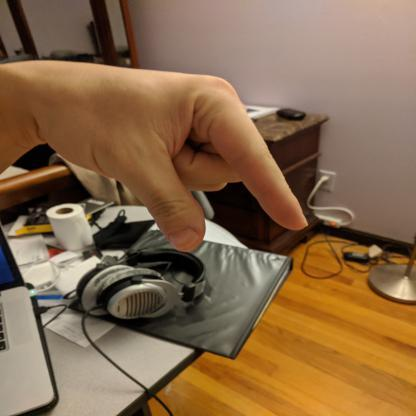Q: (38, 57, 312, 254)
